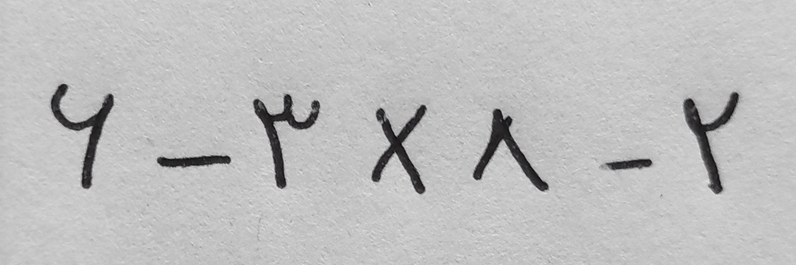character: (49, 82, 116, 190), (253, 91, 322, 189), (471, 108, 551, 192), (682, 88, 742, 194), (371, 102, 429, 196), (155, 149, 232, 171), (600, 156, 656, 174)
